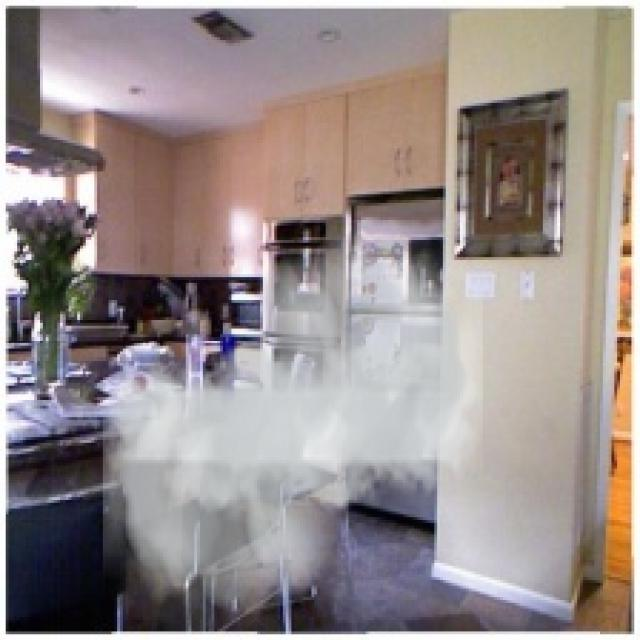smoke: (103, 220, 483, 631)
